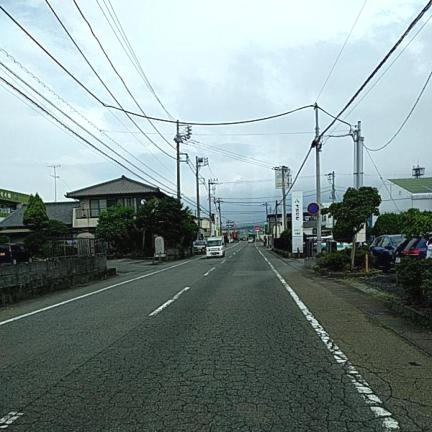Road: (0, 243, 396, 431)
